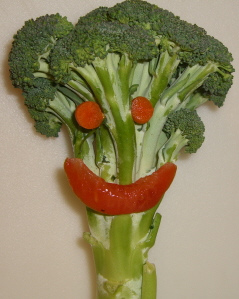broccoli: (8, 1, 234, 298)
